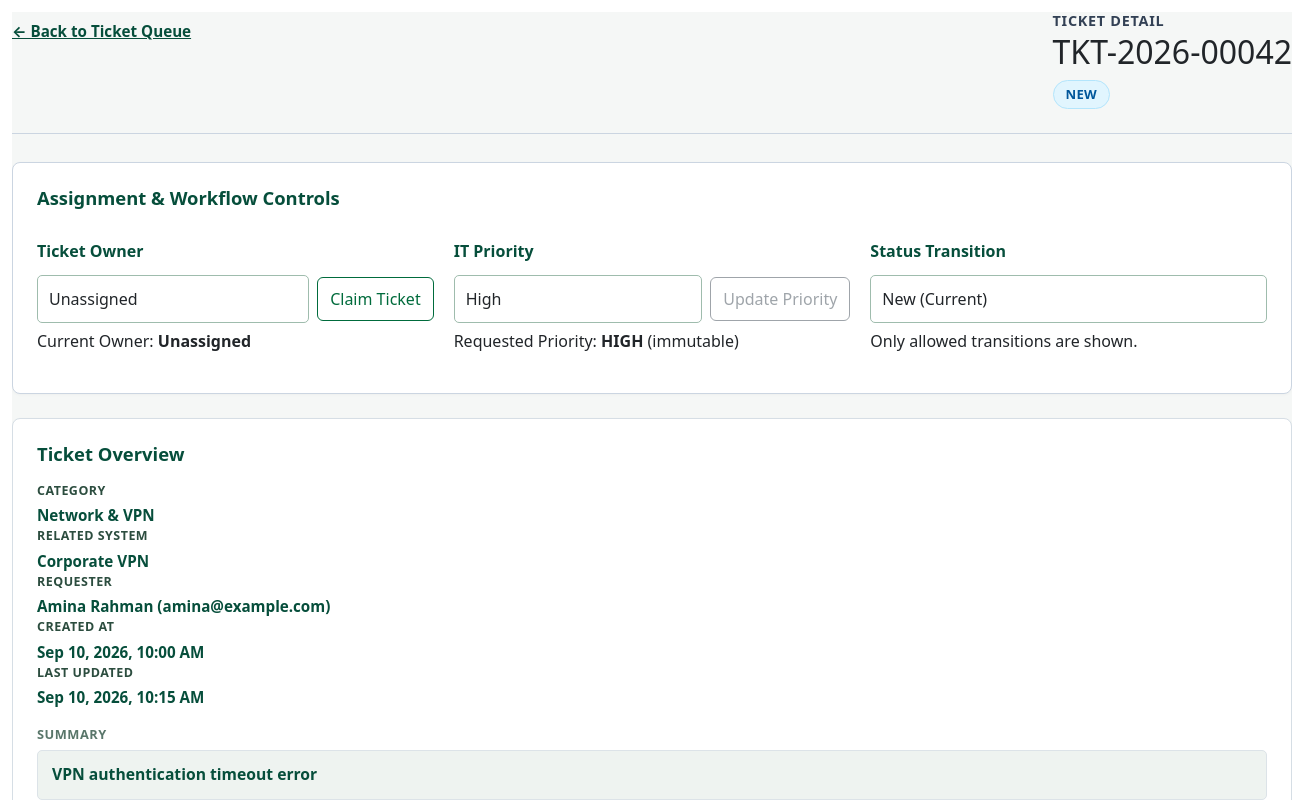
Scenario: UI-DETAIL-01 & UI-DISC-01: IT Staff Ticket Detail Component › claims an unassigned ticket when Claim button is clicked
This screenshot has width=1304, height=800.
Click the button "Claim Ticket". click: (375, 299)
box: [317,277,434,321]
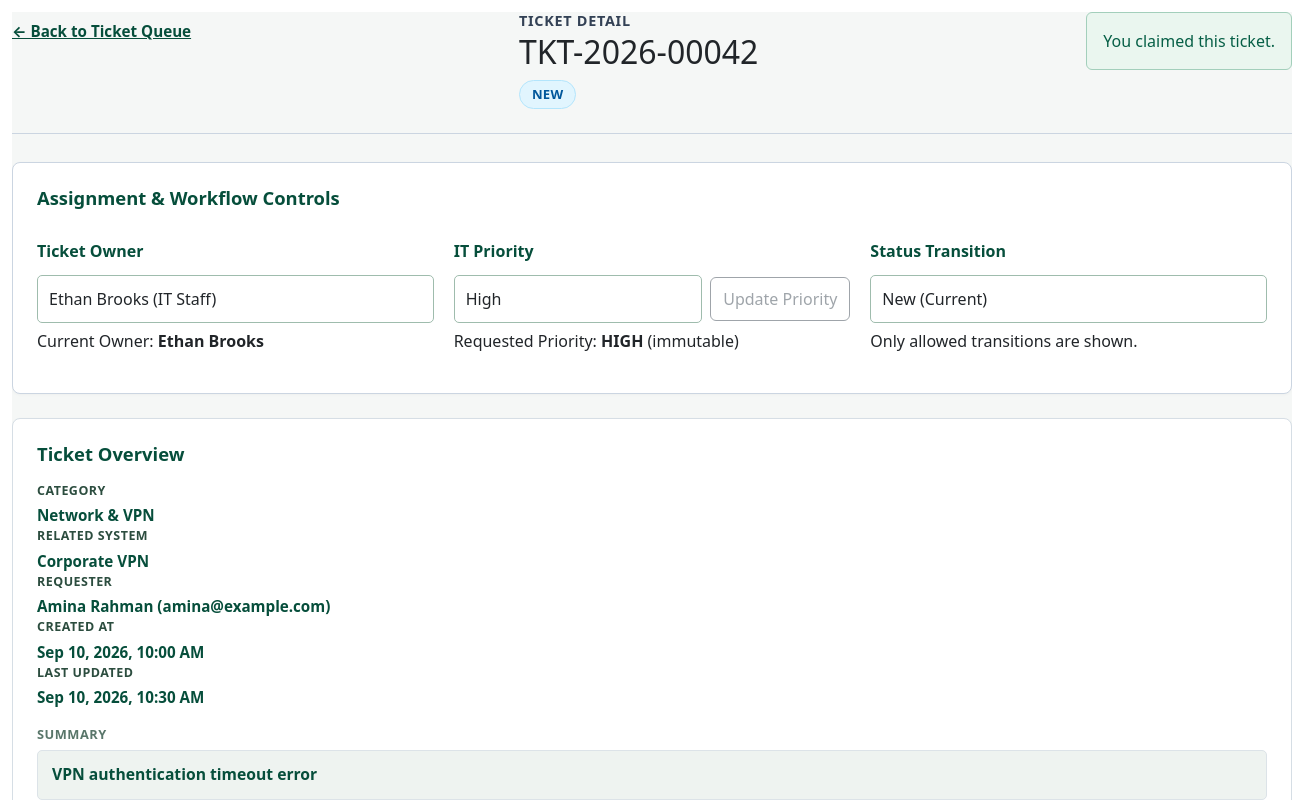
Expected: the text "You claimed this ticket." is shown, [1086,12,1292,70]
Expected: the button "Claim Ticket" is gone
